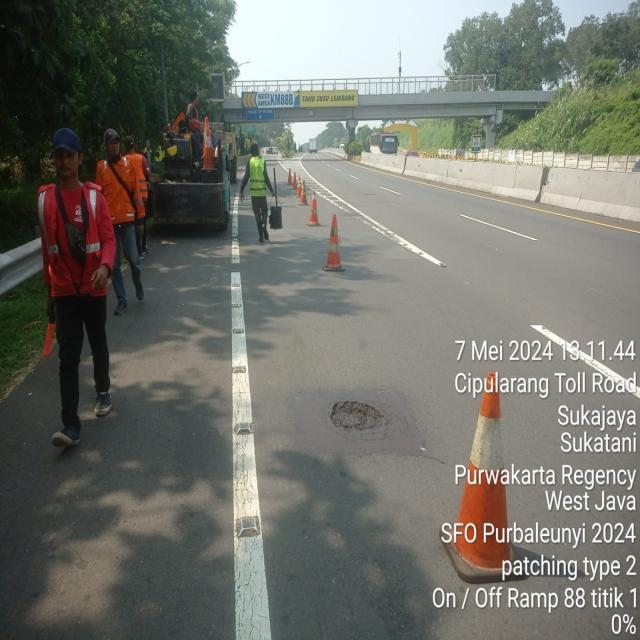Buraco: (328, 399, 386, 433)
